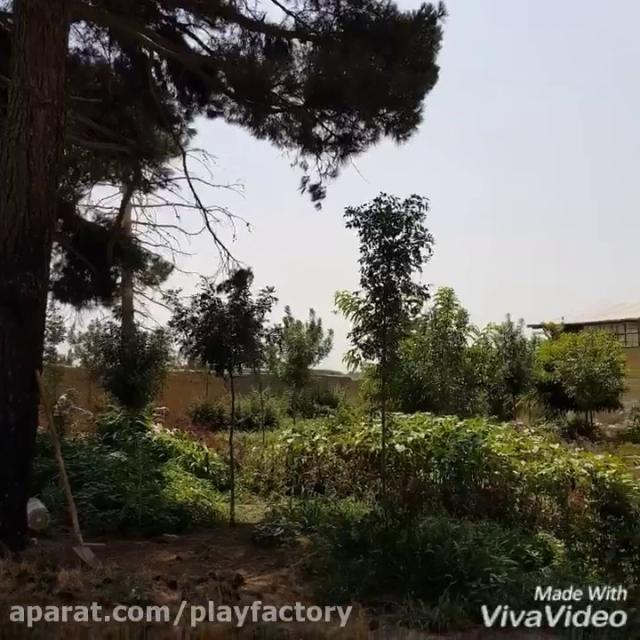drone: (329, 305, 339, 319)
